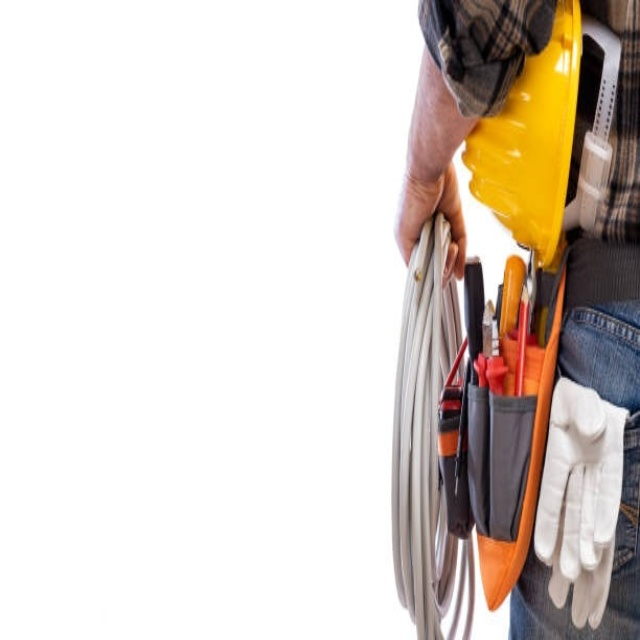Sin_guantes: (395, 145, 466, 285)
